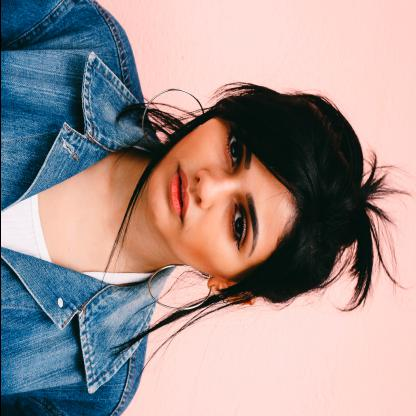Eye: (223, 196, 253, 258), (220, 121, 246, 173)
Mouth: (164, 159, 190, 229)
Nose: (193, 164, 237, 214)
